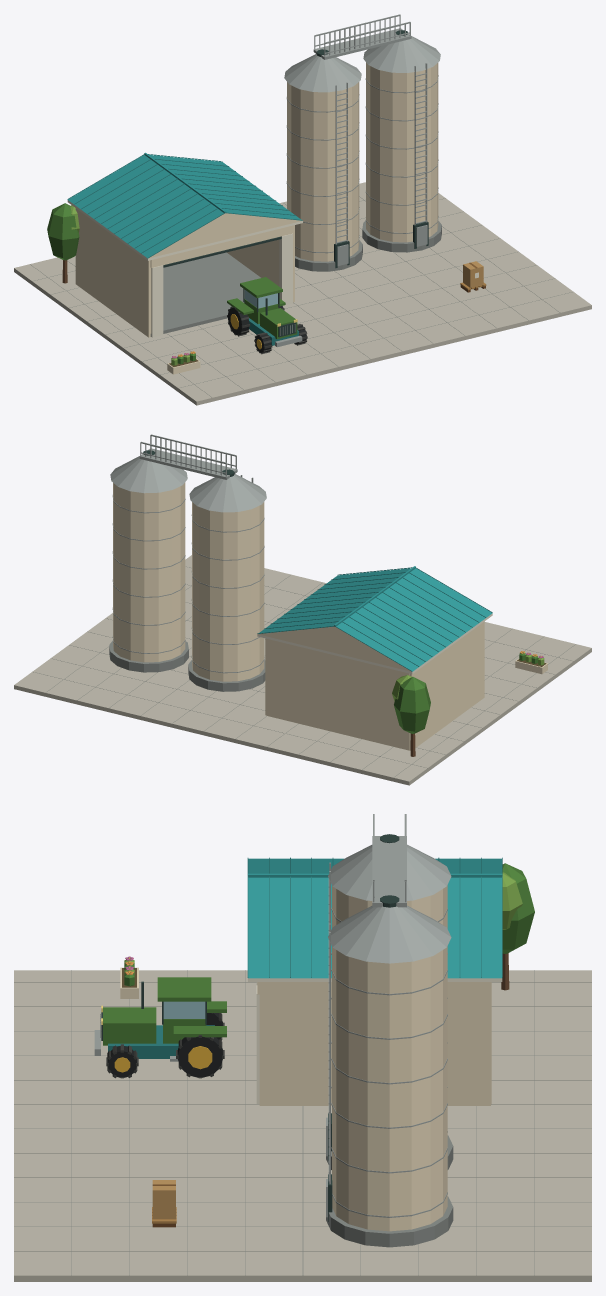
Rendered from 12_SilosAndGarage.obj.
3 renders of one model, top to bottom at view 1: azimuth 30°, elevation 25°; view 2: azimuth 150°, elevation 25°; view 3: azimuth 270°, elevation 25°, orthographic. The views are drawn at different scales.
Parts seen in each view (by area): view 1: 12_SilosAndGarage; view 2: 12_SilosAndGarage; view 3: 12_SilosAndGarage.
Part boxes in pixels (x1=…): 12_SilosAndGarage: x1=14, y1=14, x2=591, y2=405; 12_SilosAndGarage: x1=14, y1=434, x2=591, y2=785; 12_SilosAndGarage: x1=14, y1=814, x2=591, y2=1281.
Bounding box in the file's own units: 25 × 13.33 × 20.
Materials: 1 (1 with a texture image).
